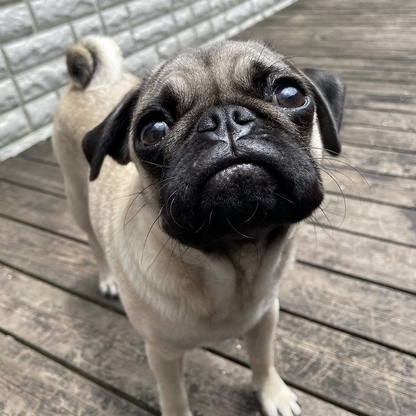Pug: (46, 27, 363, 416)
